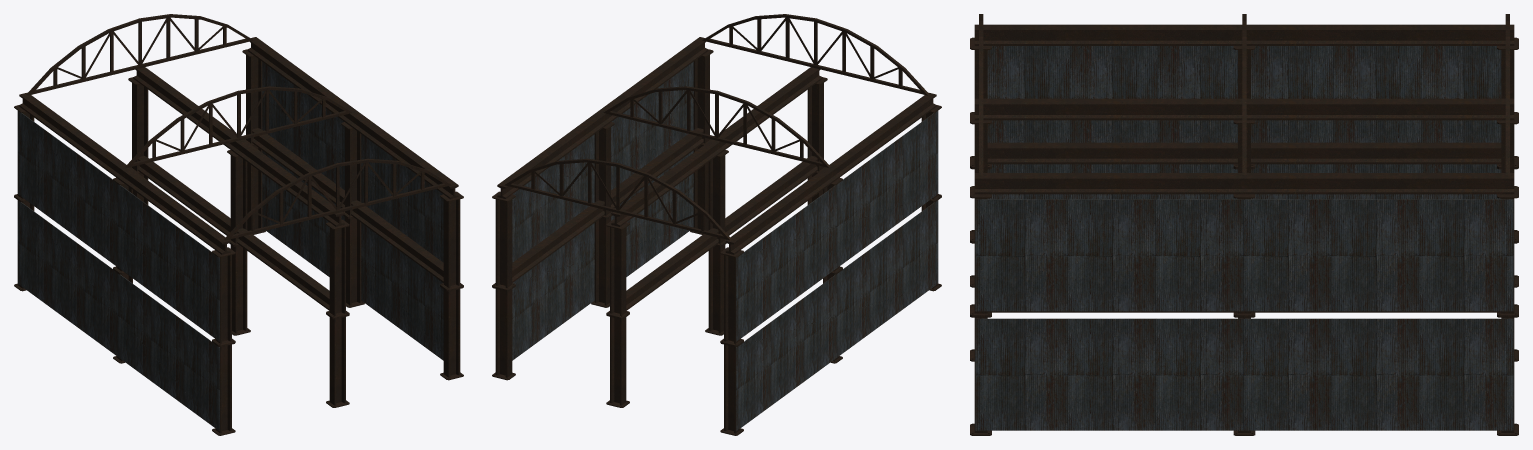
Rendered from warehouse_hl_1.glb.
3 renders of one model, left to right at view 1: azimuth 30°, elevation 25°; view 2: azimuth 150°, elevation 25°; view 3: azimuth 270°, elevation 25°, orthographic. The views are drawn at different scales.
Visible parts, largest first — view 1: warehouse_hl_1; view 2: warehouse_hl_1; view 3: warehouse_hl_1.
Boxes of the visible parts, box(x1,y1,x2,y2) form: warehouse_hl_1: box(14, 14, 463, 435); warehouse_hl_1: box(492, 14, 941, 435); warehouse_hl_1: box(970, 14, 1518, 435).
Size of the model in its own units: 8.6 by 8.02 by 12.5.
2 materials, 2 textured.
